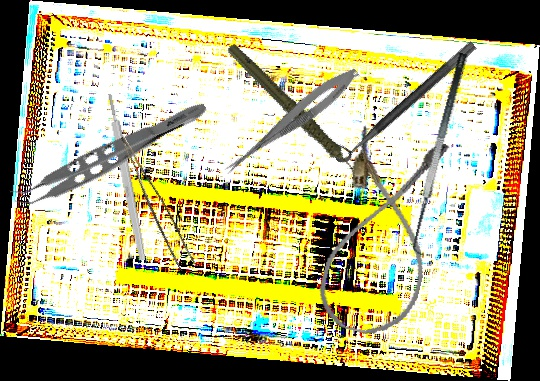Cannula: (311, 123, 456, 344)
Fixation Ring: (325, 29, 478, 167)
Handpiece: (224, 22, 361, 204)
Micro Scissor: (219, 60, 364, 184)
Scalpel Handle: (105, 93, 148, 261)
Spatula Surgical: (402, 52, 485, 257)
Tissue Forceps: (7, 84, 211, 220), (106, 135, 199, 272)
